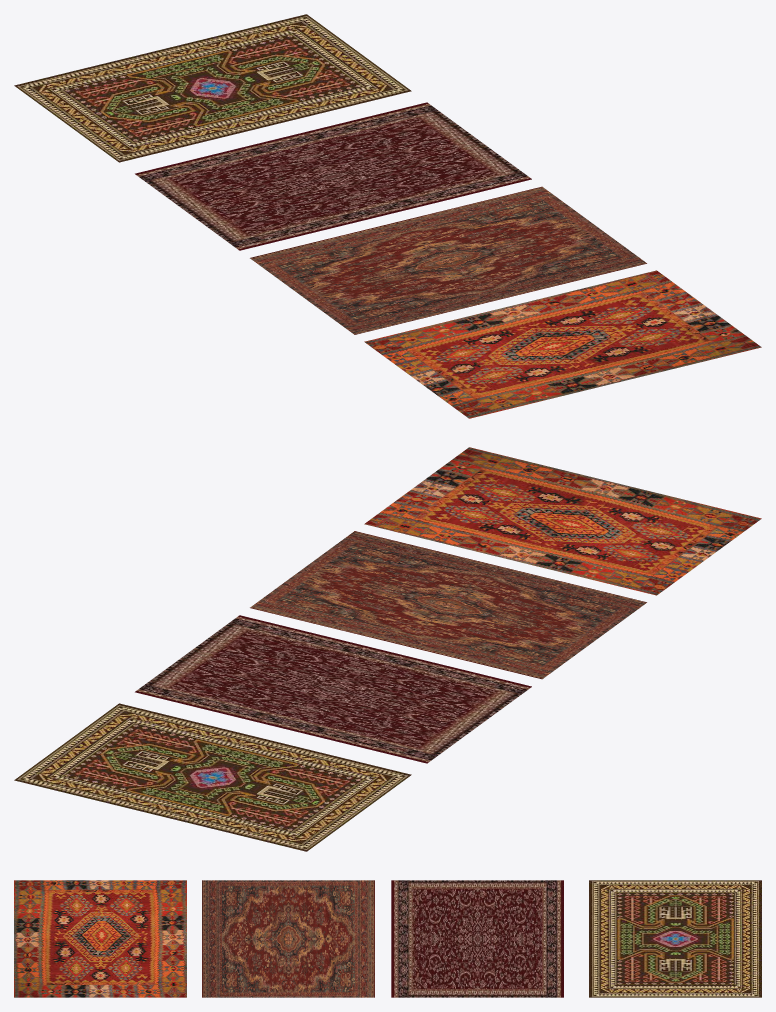
File: Halılar.fbx
The picture shows the model from 3 angles, top to bottom: view 1: azimuth 30°, elevation 25°; view 2: azimuth 150°, elevation 25°; view 3: azimuth 270°, elevation 25°; orthographic projection. The views are drawn at different scales.
Parts seen in each view (by area): view 1: pPlane1, pPlane2, pPlane3, pPlane4; view 2: pPlane1, pPlane2, pPlane3, pPlane4; view 3: pPlane1, pPlane2, pPlane3, pPlane4.
Part boxes in pixels (box(x1,y1,x2,y2)): pPlane1: box(14, 14, 411, 162); pPlane2: box(135, 102, 531, 250); pPlane3: box(250, 186, 646, 334); pPlane4: box(364, 270, 761, 418); pPlane1: box(14, 703, 411, 851); pPlane2: box(135, 615, 531, 763); pPlane3: box(250, 531, 646, 679); pPlane4: box(364, 447, 761, 595); pPlane1: box(589, 880, 761, 997); pPlane2: box(391, 880, 563, 997); pPlane3: box(202, 880, 374, 997); pPlane4: box(14, 880, 186, 997).
Bounding box in the file's own units: 14.3 × 0 × 38.52.
4 materials, 4 textured.
